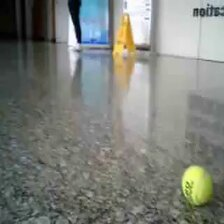tennis: (181, 166, 214, 206)
